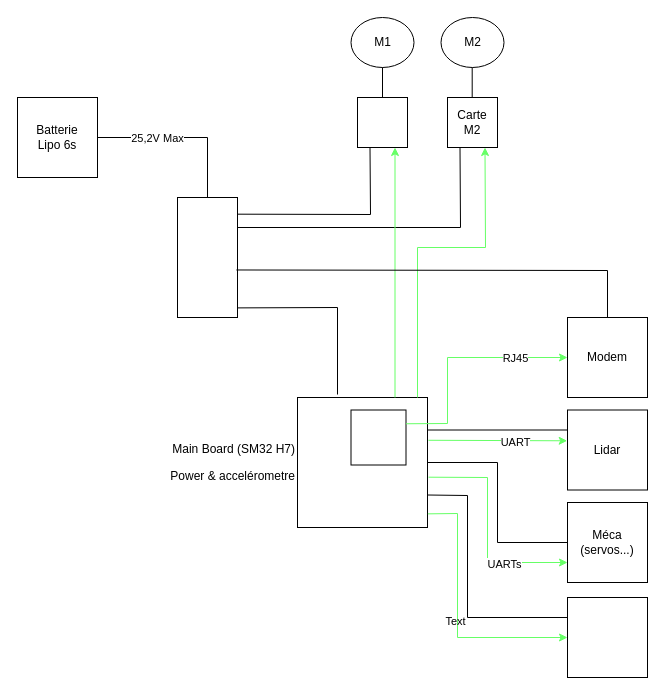
This 665x695 diagram has some shape labels left out. The box of each missing label's shape, as (x1, y1, x2, y2) in pixels:
Carte M1: (356, 96, 408, 148)
Multiprise XT60 +1 dispo: (176, 196, 238, 318)
Pi 4: (350, 409, 406, 465)
Roues codeuses: (566, 596, 648, 678)
